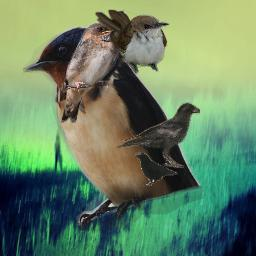Crow: (116, 102, 200, 168), (133, 152, 178, 186)
Cuckoo: (95, 9, 170, 76)
Swallow: (23, 25, 203, 231), (54, 21, 119, 123)
